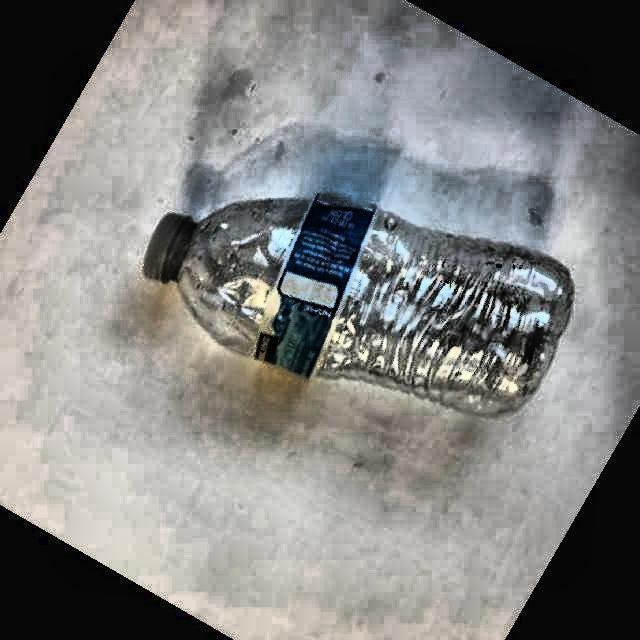plastic: (145, 195, 574, 415)
